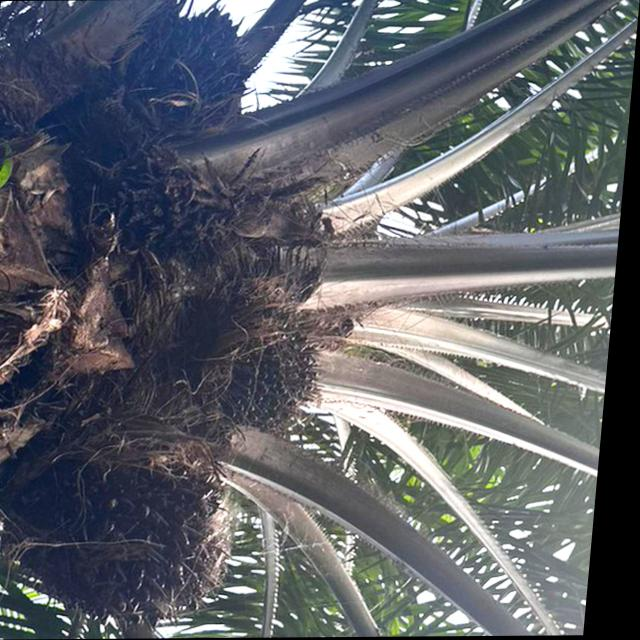unripe: (0, 453, 247, 629), (94, 0, 271, 130), (162, 319, 336, 436)
